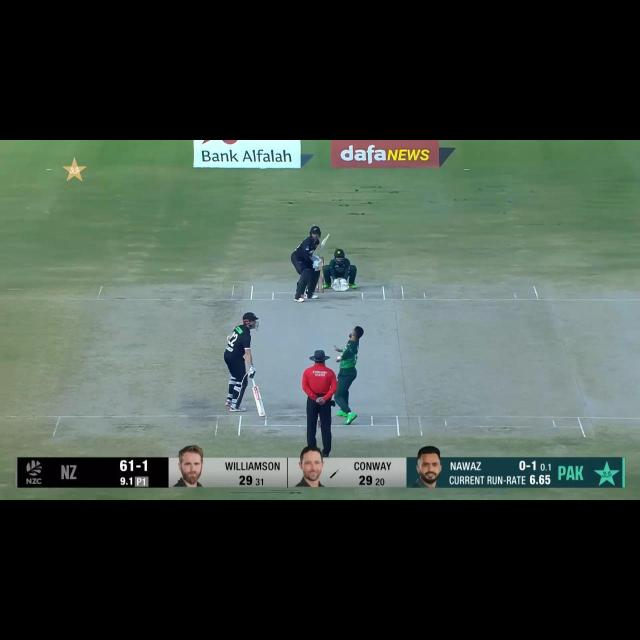bat: (250, 385, 270, 423), (316, 230, 331, 262)
toe: (255, 407, 269, 420), (322, 233, 332, 240)
